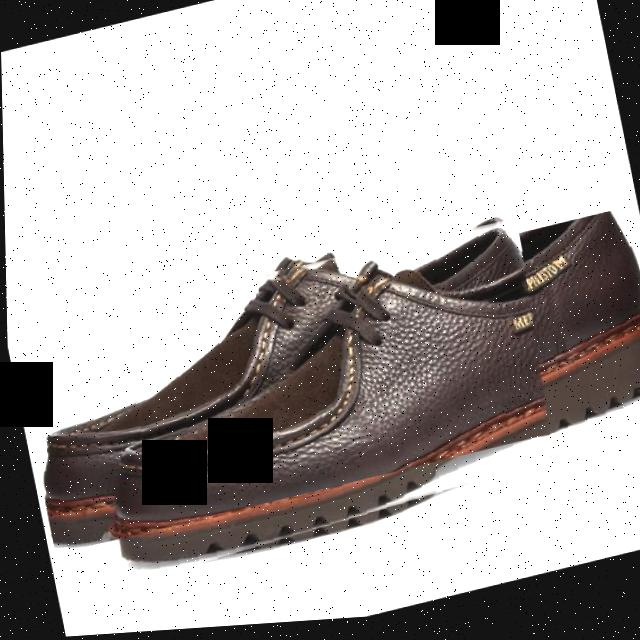shoe: (78, 212, 640, 587), (7, 211, 559, 557)
